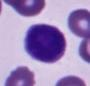L: (23, 23, 68, 63)
